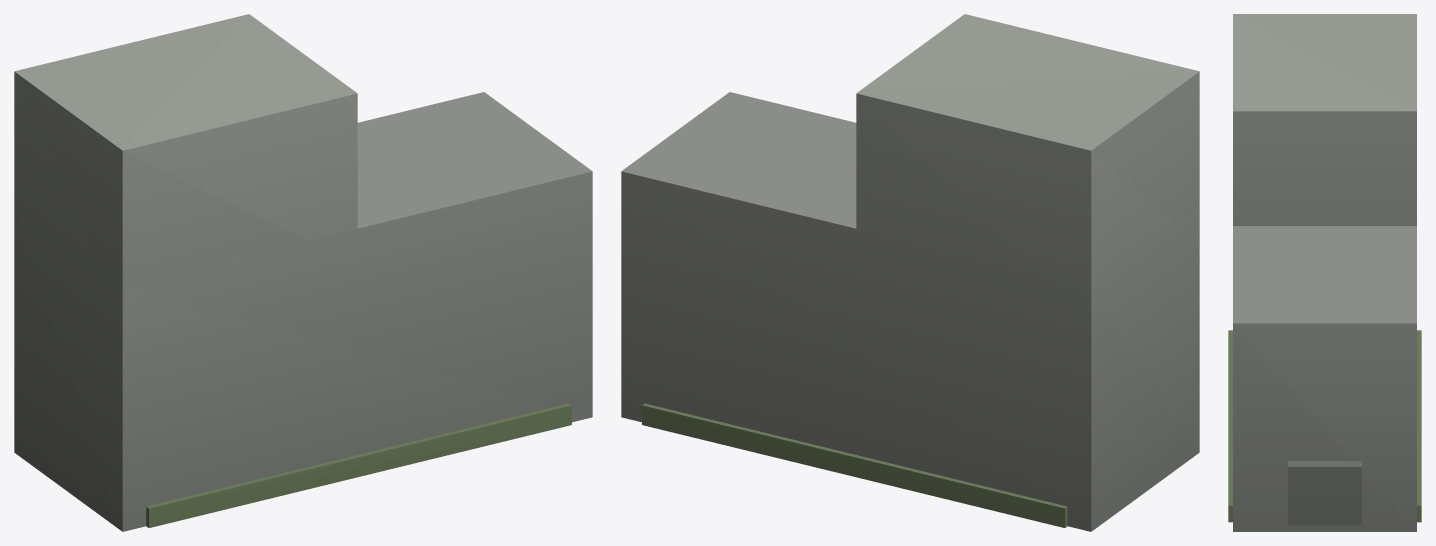
The model's file is wall_ruined.glb.
3 views of the same model, side by side, from view 1: azimuth 30°, elevation 25°; view 2: azimuth 150°, elevation 25°; view 3: azimuth 270°, elevation 25° (orthographic). The views are drawn at different scales.
Parts seen in each view (by area): view 1: wall_ruined; view 2: wall_ruined; view 3: wall_ruined.
Boxes of the visible parts, box(x1,y1,x2,y2) form: wall_ruined: box(14, 14, 592, 531); wall_ruined: box(621, 14, 1199, 531); wall_ruined: box(1228, 14, 1421, 531).
Size of the model in its own units: 1.03 by 0.775 by 0.42.
